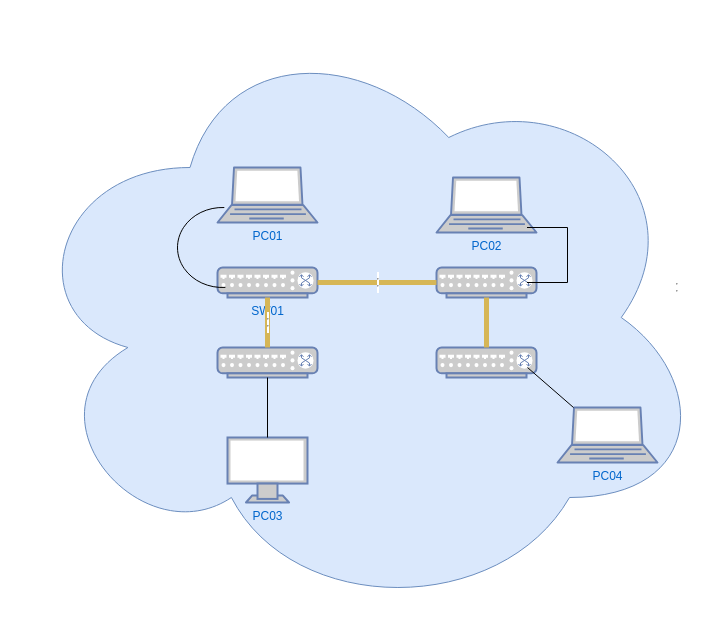
Image size: 725x635. Some labels were removed from this diagram. Here are the shapes that lost their labels. From the top down, the centre of each, then its label:
At (486,282): "SW02".
At (267,362): "SW03".
At (486,362): "SW04".
